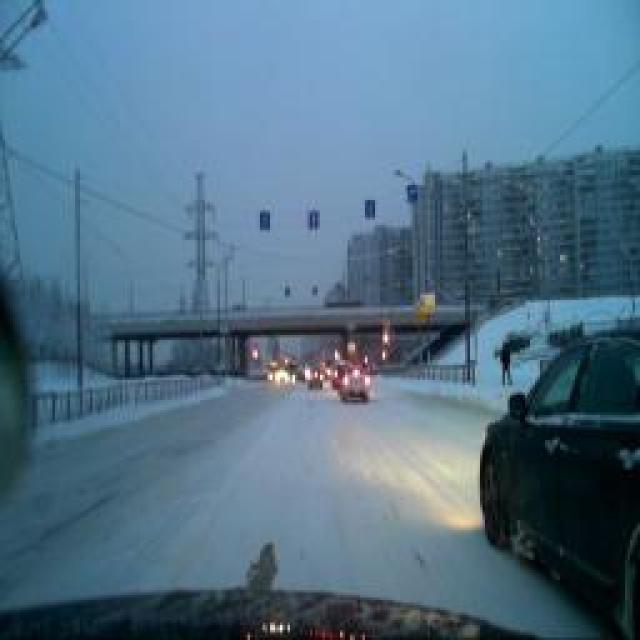sign: (259, 208, 271, 232), (406, 183, 419, 205), (308, 209, 320, 231), (366, 198, 376, 220)
